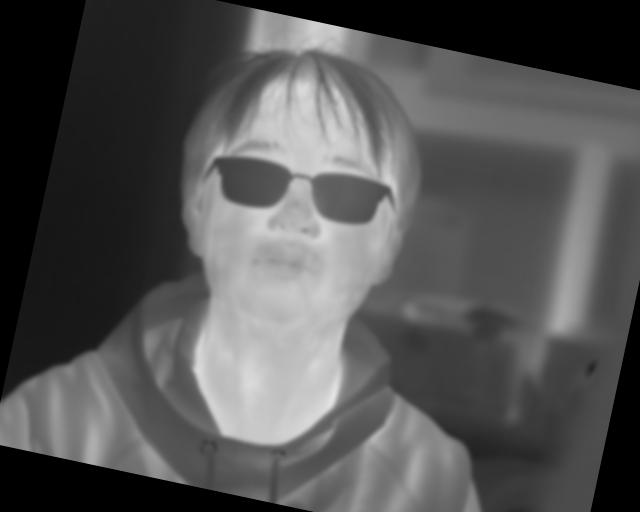face: (145, 21, 446, 354)
